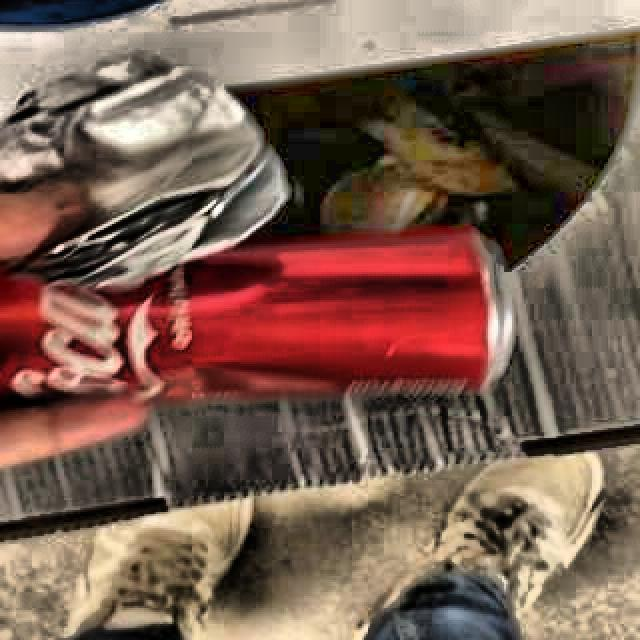metal: (0, 232, 512, 405)
